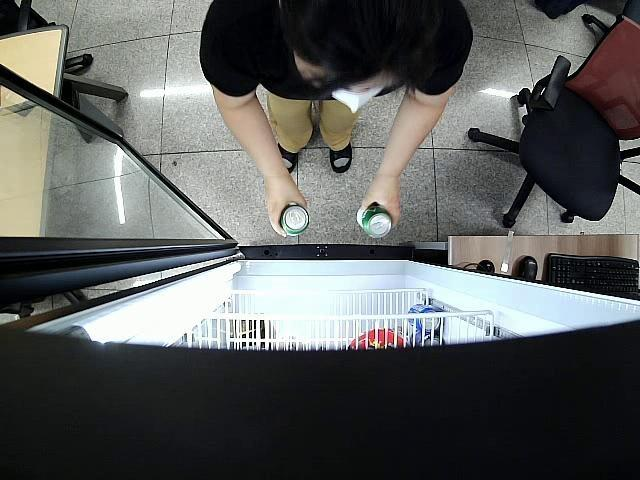12_chilsungCider: (356, 204, 392, 238), (279, 206, 308, 238)
